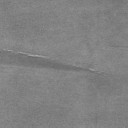finishing roll printing: (0, 50, 96, 72)
